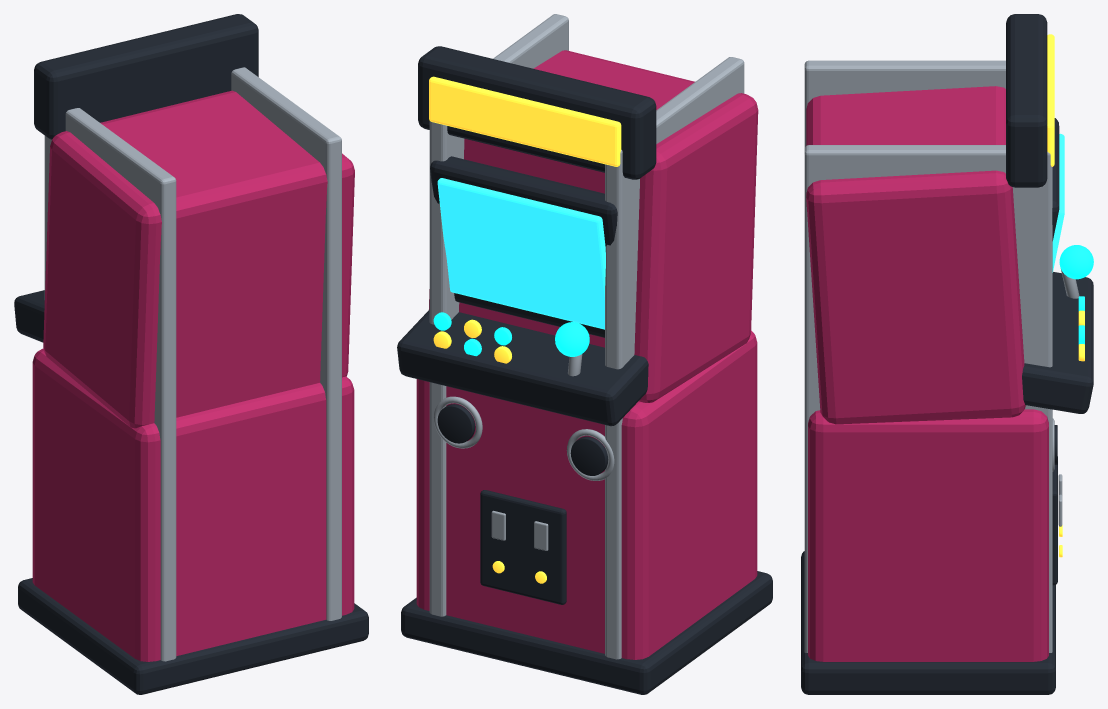
Rendered from arcade_game_cabinet.glb.
3 renders of one model, left to right at view 1: azimuth 30°, elevation 25°; view 2: azimuth 150°, elevation 25°; view 3: azimuth 270°, elevation 25°, orthographic. The views are drawn at different scales.
Parts seen in each view (by area): view 1: Arcade_UpperCabinet, Arcade_LowerCabinet, Arcade_MarqueeHousing, Arcade_SideRail_1, Arcade_SideRail_2, Arcade_BasePlinth, Arcade_ControlDeck; view 2: Arcade_LowerCabinet, Arcade_UpperCabinet, Arcade_CRTGlass, Arcade_ControlDeck, Arcade_SideRail_1, Arcade_BasePlinth, Arcade_MarqueeHousing, Arcade_SideRail_2, Arcade_LitMarquee, Arcade_CoinDoor, Arcade_ScreenBezel, Arcade_RightSpeakerCone (+4 smaller); view 3: Arcade_UpperCabinet, Arcade_LowerCabinet, Arcade_SideRail_2, Arcade_BasePlinth, Arcade_MarqueeHousing, Arcade_SideRail_1, Arcade_ControlDeck, Arcade_LitMarquee, Arcade_JoystickBall, Arcade_CRTGlass, Arcade_ScreenBezel, Arcade_CoinDoor.
Part boxes in pixels (x1,y1,x2,y2): Arcade_UpperCabinet: (43, 90, 354, 428); Arcade_LowerCabinet: (32, 348, 354, 661); Arcade_MarqueeHousing: (34, 14, 258, 139); Arcade_SideRail_1: (44, 108, 176, 661); Arcade_SideRail_2: (231, 67, 341, 620); Arcade_BasePlinth: (18, 578, 368, 694); Arcade_ControlDeck: (14, 290, 44, 342); Arcade_LowerCabinet: (416, 330, 757, 659); Arcade_UpperCabinet: (429, 50, 758, 402); Arcade_CRTGlass: (437, 178, 605, 329); Arcade_ControlDeck: (397, 309, 648, 426); Arcade_SideRail_1: (605, 57, 744, 659); Arcade_BasePlinth: (401, 571, 772, 694); Arcade_MarqueeHousing: (418, 46, 656, 179); Arcade_SideRail_2: (429, 14, 568, 616); Arcade_LitMarquee: (429, 76, 621, 166); Arcade_CoinDoor: (480, 490, 566, 604); Arcade_ScreenBezel: (430, 156, 617, 337); Arcade_RightSpeakerCone: (437, 404, 475, 443); Arcade_UpperCabinet: (806, 86, 1025, 424); Arcade_LowerCabinet: (808, 409, 1048, 661); Arcade_SideRail_2: (804, 145, 1052, 652); Arcade_BasePlinth: (801, 551, 1055, 694); Arcade_MarqueeHousing: (1006, 14, 1047, 187); Arcade_SideRail_1: (804, 60, 1005, 147); Arcade_ControlDeck: (1022, 272, 1093, 413); Arcade_LitMarquee: (1047, 34, 1054, 166); Arcade_JoystickBall: (1059, 245, 1093, 279); Arcade_CRTGlass: (1052, 133, 1064, 272); Arcade_ScreenBezel: (1052, 118, 1059, 240); Arcade_CoinDoor: (1052, 456, 1057, 585).
Size of the model in its own units: 0.82 by 1.84 by 0.85.
